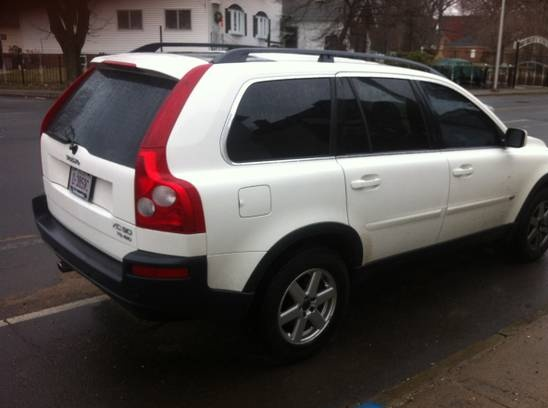volvo: (22, 35, 548, 356)
